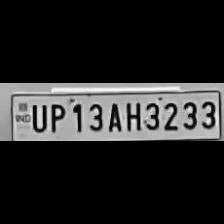1: (66, 100, 83, 134)
2: (160, 98, 178, 132)
3: (84, 100, 104, 132), (142, 98, 160, 132), (198, 96, 216, 130), (179, 97, 197, 130)
A: (104, 100, 122, 132)
H: (122, 98, 142, 132)
P: (46, 100, 66, 134)
U: (28, 101, 48, 133)
